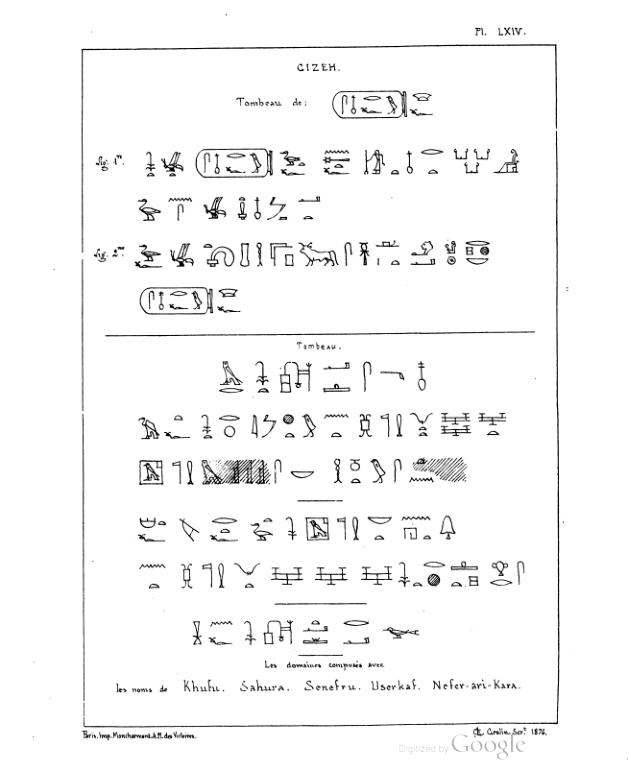circle: (328, 84, 410, 125), (137, 280, 216, 322), (193, 144, 280, 182)
